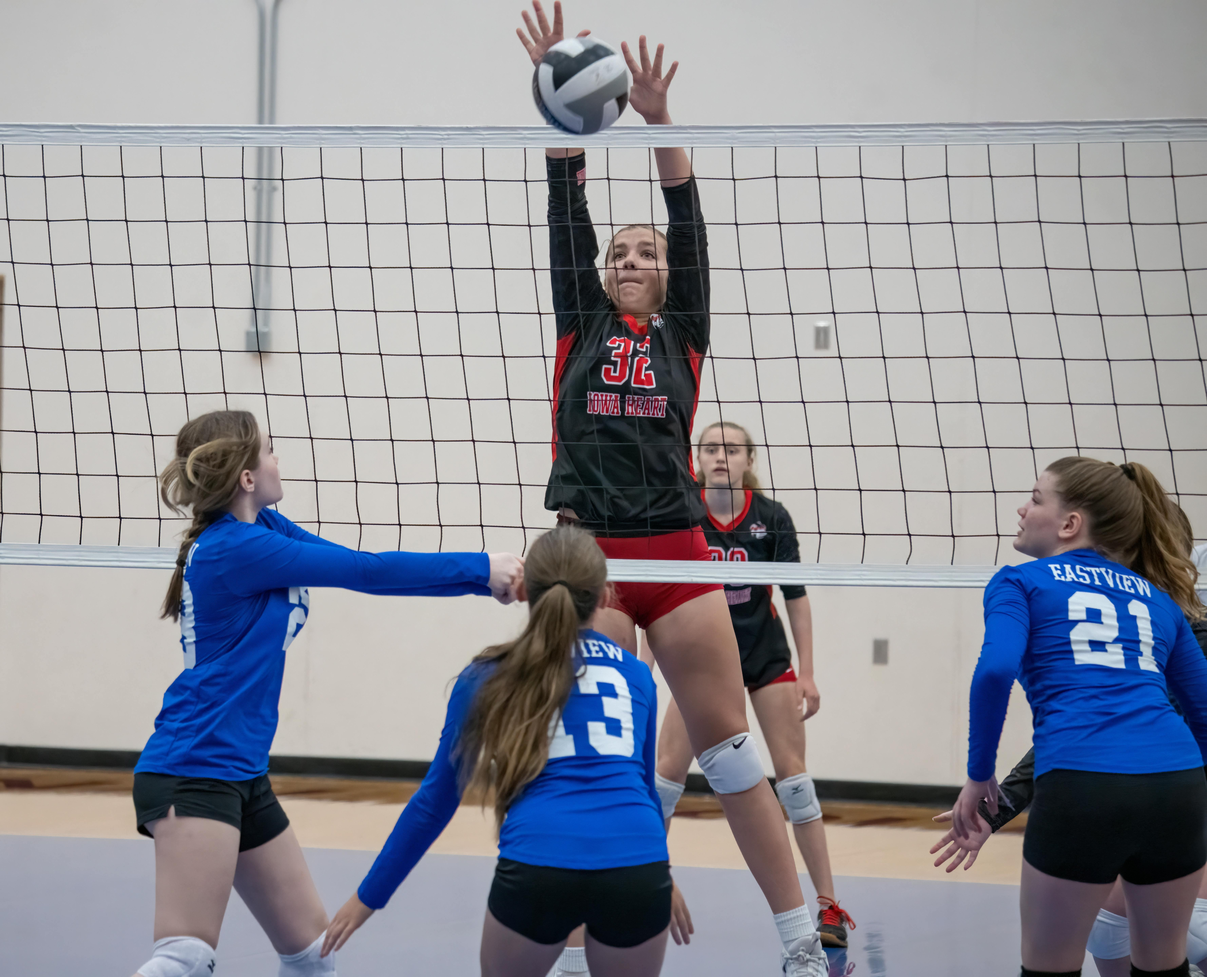ballon_volley: (530, 34, 628, 136)
